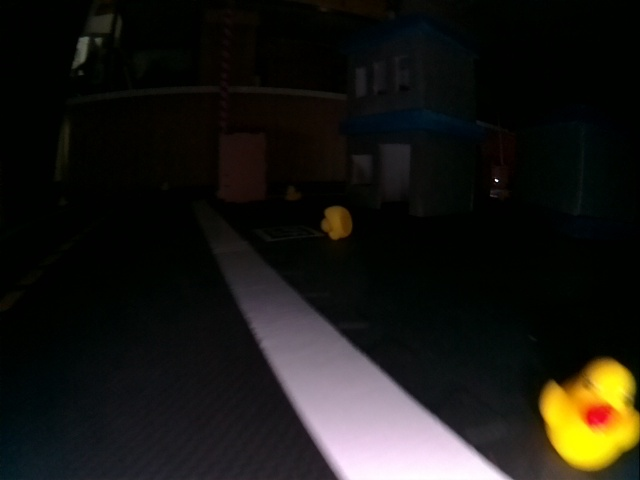Duckie: (541, 359, 635, 461), (323, 205, 350, 238), (286, 186, 295, 199)
QR code: (256, 225, 320, 239)
